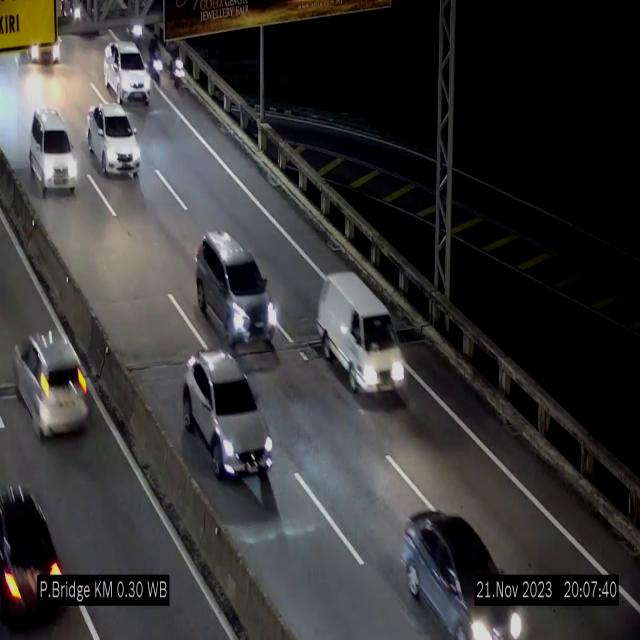Car: (395, 498, 526, 640), (0, 454, 80, 628), (183, 352, 274, 478), (11, 314, 103, 432), (317, 274, 407, 392), (196, 232, 278, 348), (30, 110, 78, 196), (88, 103, 140, 178), (105, 43, 151, 103)
Motorcycle: (169, 41, 187, 101), (147, 36, 165, 95)
